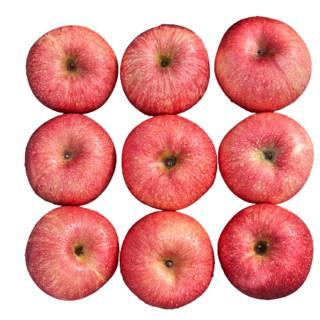apple: (214, 15, 310, 113), (217, 203, 312, 301), (120, 211, 214, 310), (24, 204, 118, 301), (121, 115, 216, 210), (217, 112, 313, 204), (23, 113, 115, 205), (119, 23, 209, 116), (25, 24, 116, 114)
